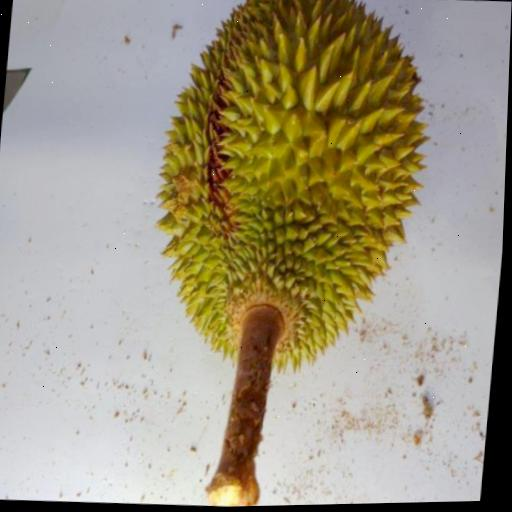rot: (76, 0, 503, 510)
